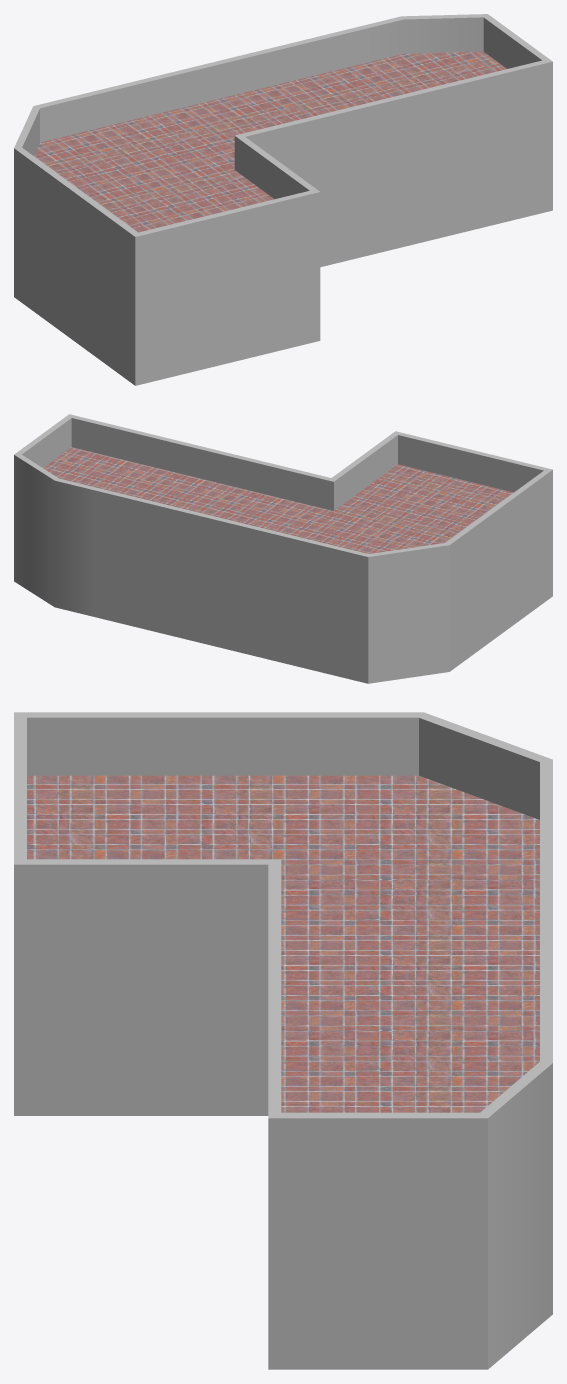
File: hirise_parts04_1f.fbx
3 views of the same model, one above another, from view 1: azimuth 30°, elevation 25°; view 2: azimuth 150°, elevation 25°; view 3: azimuth 270°, elevation 25° (orthographic). The views are drawn at different scales.
Parts seen in each view (by area): view 1: hirise_parts04_1f; view 2: hirise_parts04_1f; view 3: hirise_parts04_1f.
Part boxes in pixels (<box>): hirise_parts04_1f: <box>14,14,552,385</box>; hirise_parts04_1f: <box>14,414,552,683</box>; hirise_parts04_1f: <box>14,712,552,1369</box>.
Bounding box in the file's own units: 19.87 × 5.74 × 11.15.
